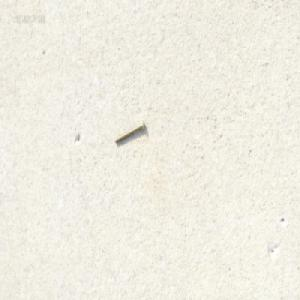Bolt: (114, 120, 145, 143)
